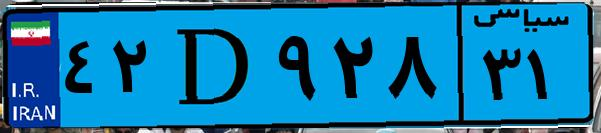1: (525, 38, 570, 115)
2: (330, 28, 385, 110), (110, 28, 158, 98)
3: (475, 38, 525, 113)
4: (57, 26, 110, 100)
8: (385, 28, 445, 110)
9: (270, 28, 330, 110)
D: (158, 12, 270, 120)
